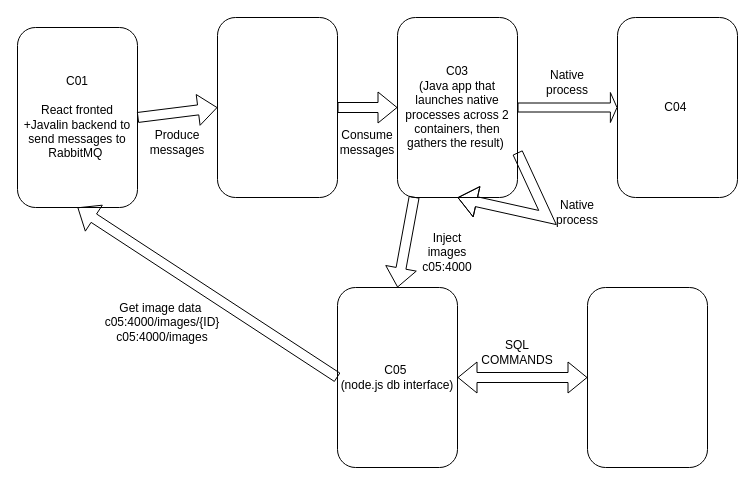
This 755x485 diagram has some shape labels left out. Each missing label, with the centre of its shape:
C02 (RabbitMQ Broker): the point at 277,107
MY SQL DB: the point at 647,377
